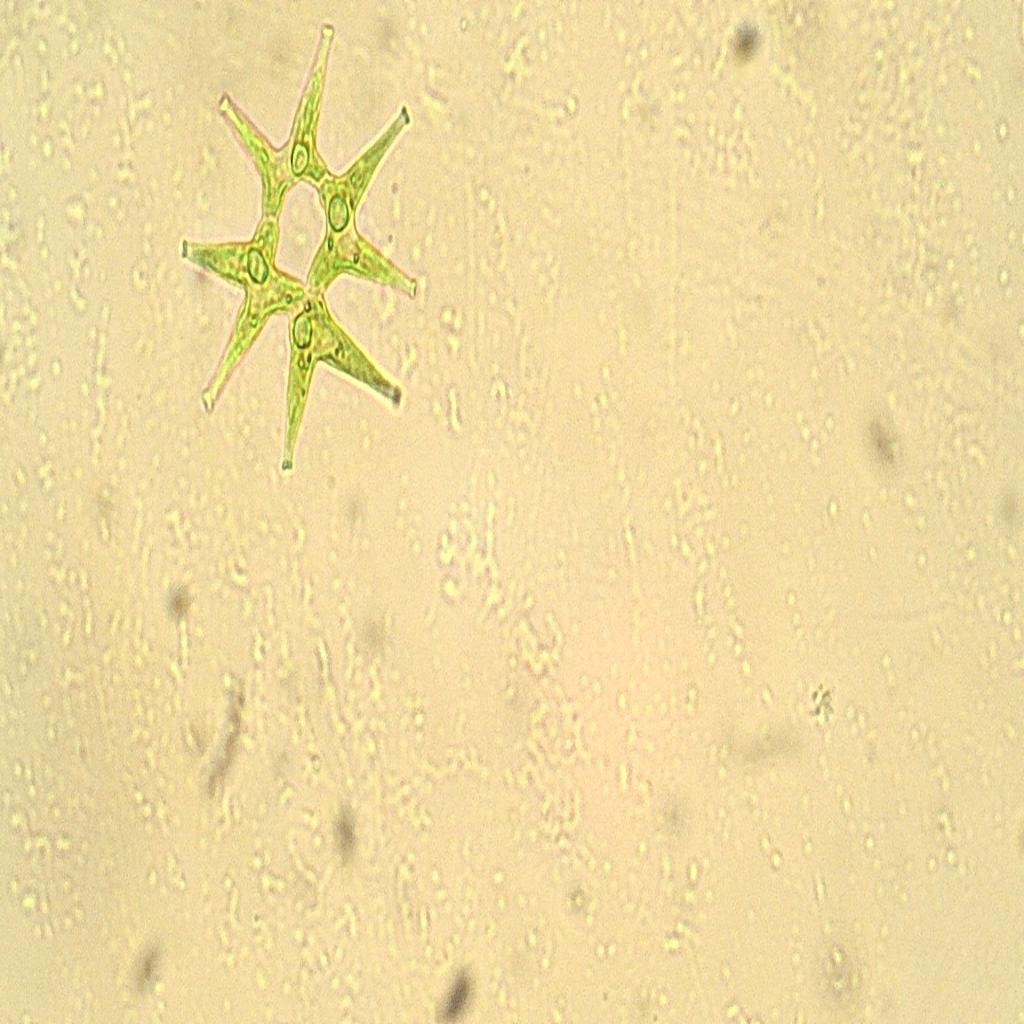Pediastrum_CT: (155, 14, 441, 526)
